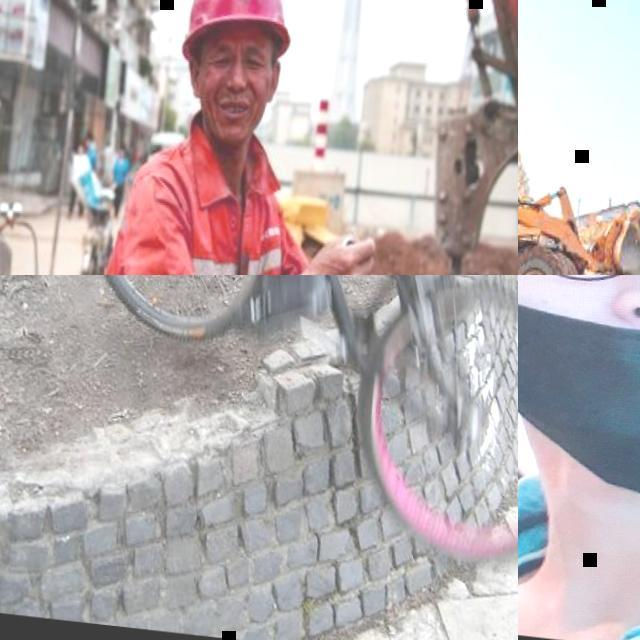helmet: (180, 0, 297, 66)
vest: (73, 98, 299, 275)
